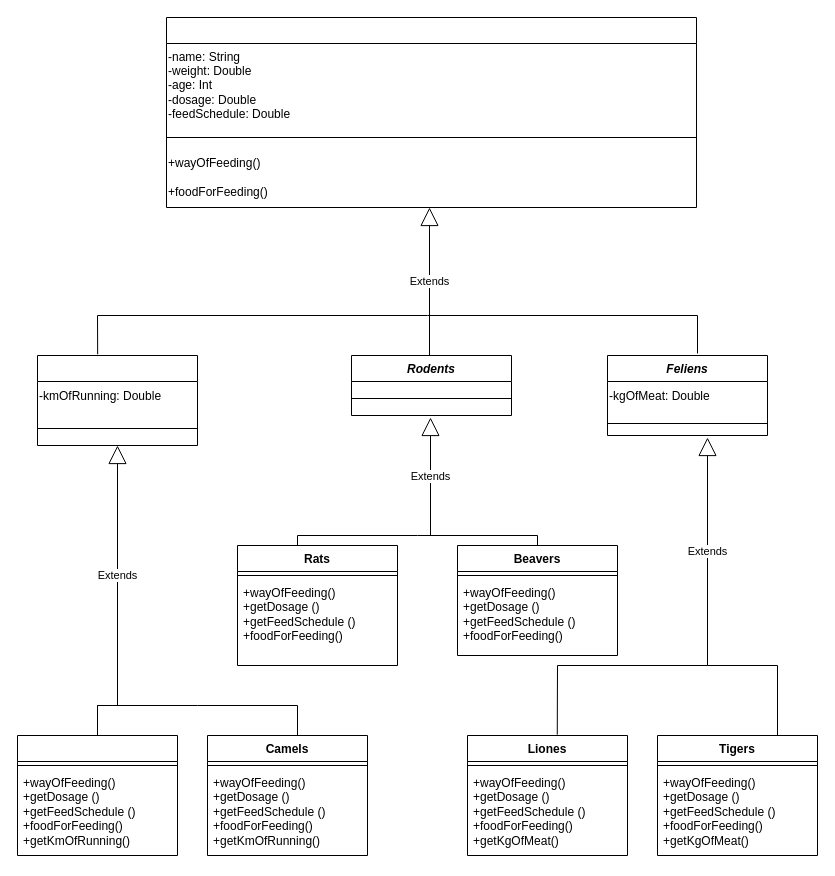
The diagram is 835 pixels wide and 876 high, and some of its shapes have lost their labels. The shapes that lost their labels are listed below. From the top down, each one's box as (x1, y1, x2, y2) in pixels, then its label:
(166, 16, 696, 208): ANIMALS
(36, 354, 198, 446): Horses
(16, 734, 178, 856): Donkeys
